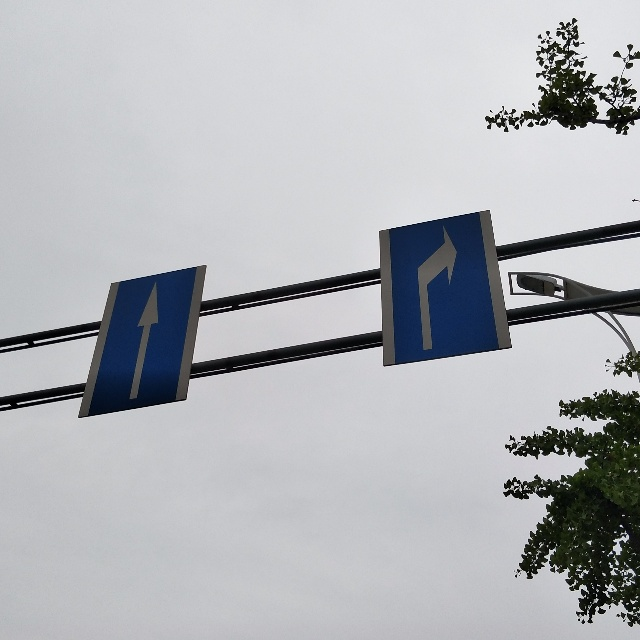right: (400, 226, 469, 366)
straight: (112, 277, 173, 403)
